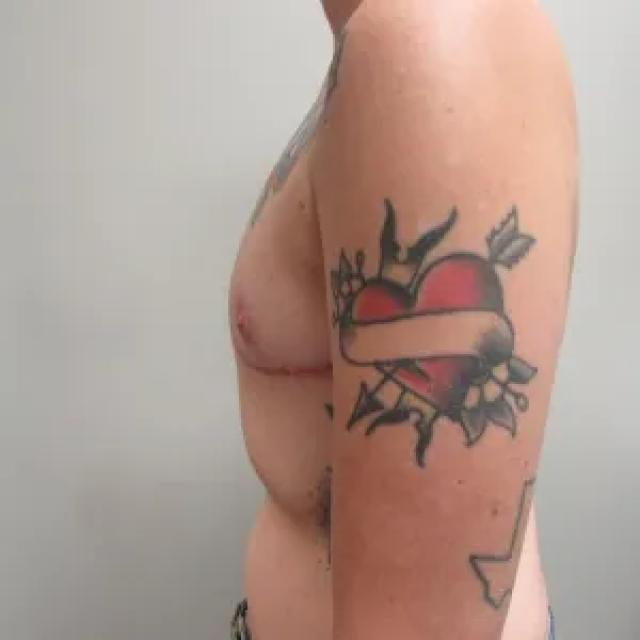Seno herido: (216, 113, 345, 410)
